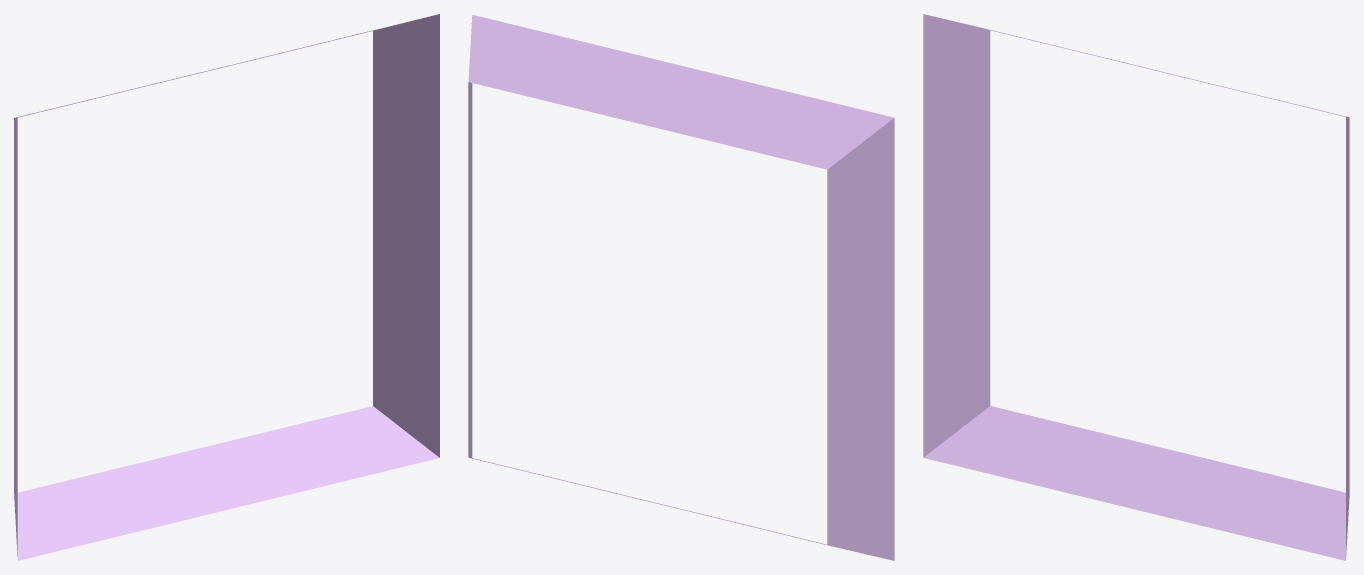
The picture shows the model from 3 angles, left to right: view 1: azimuth 30°, elevation 25°; view 2: azimuth 150°, elevation 25°; view 3: azimuth 330°, elevation 25°; orthographic projection.
Visible parts, largest first — view 1: Object15; view 2: Object15; view 3: Object15.
Boxes of the visible parts, <box> form: Object15: <box>14,14,439,560</box>; Object15: <box>468,14,894,560</box>; Object15: <box>923,14,1349,560</box>.
Size of the model in its own units: 11761 by 11820 by 1705.
